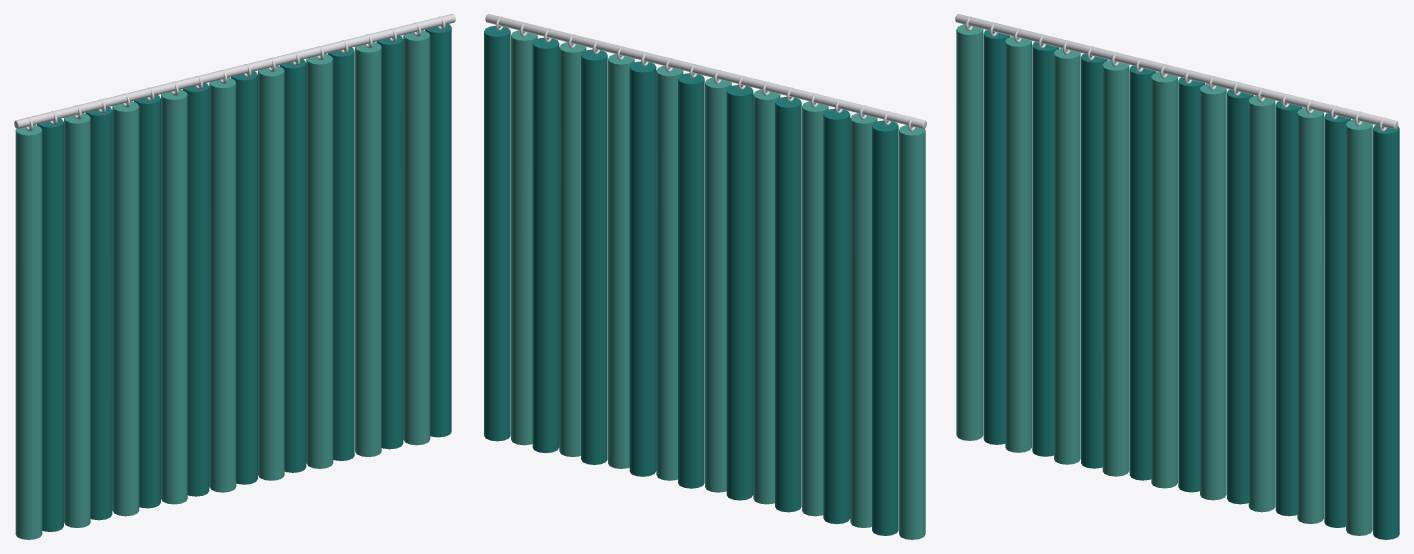
File: shower_curtain.glb
The picture shows the model from 3 angles, left to right: view 1: azimuth 30°, elevation 25°; view 2: azimuth 150°, elevation 25°; view 3: azimuth 330°, elevation 25°; orthographic projection.
Visible parts, largest first — view 1: shower_curtain_cloth, shower_curtain; view 2: shower_curtain_cloth, shower_curtain; view 3: shower_curtain_cloth, shower_curtain.
Boxes of the visible parts, x1=… form: shower_curtain_cloth: x1=15, y1=16, x2=451, y2=539; shower_curtain: x1=14, y1=14, x2=455, y2=128; shower_curtain_cloth: x1=484, y1=16, x2=925, y2=539; shower_curtain: x1=485, y1=14, x2=926, y2=128; shower_curtain_cloth: x1=956, y1=16, x2=1399, y2=539; shower_curtain: x1=955, y1=14, x2=1398, y2=129.
Size of the model in its own units: 1.7 by 1.55 by 0.108.
